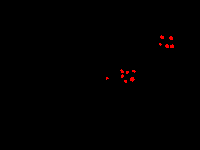Target: (130, 77, 135, 82), (160, 35, 164, 39), (169, 36, 173, 40), (165, 44, 169, 48), (170, 44, 174, 48), (120, 69, 124, 73), (132, 70, 136, 73), (121, 74, 124, 78), (159, 43, 162, 46), (126, 71, 129, 74), (106, 77, 109, 80), (124, 80, 127, 83)
